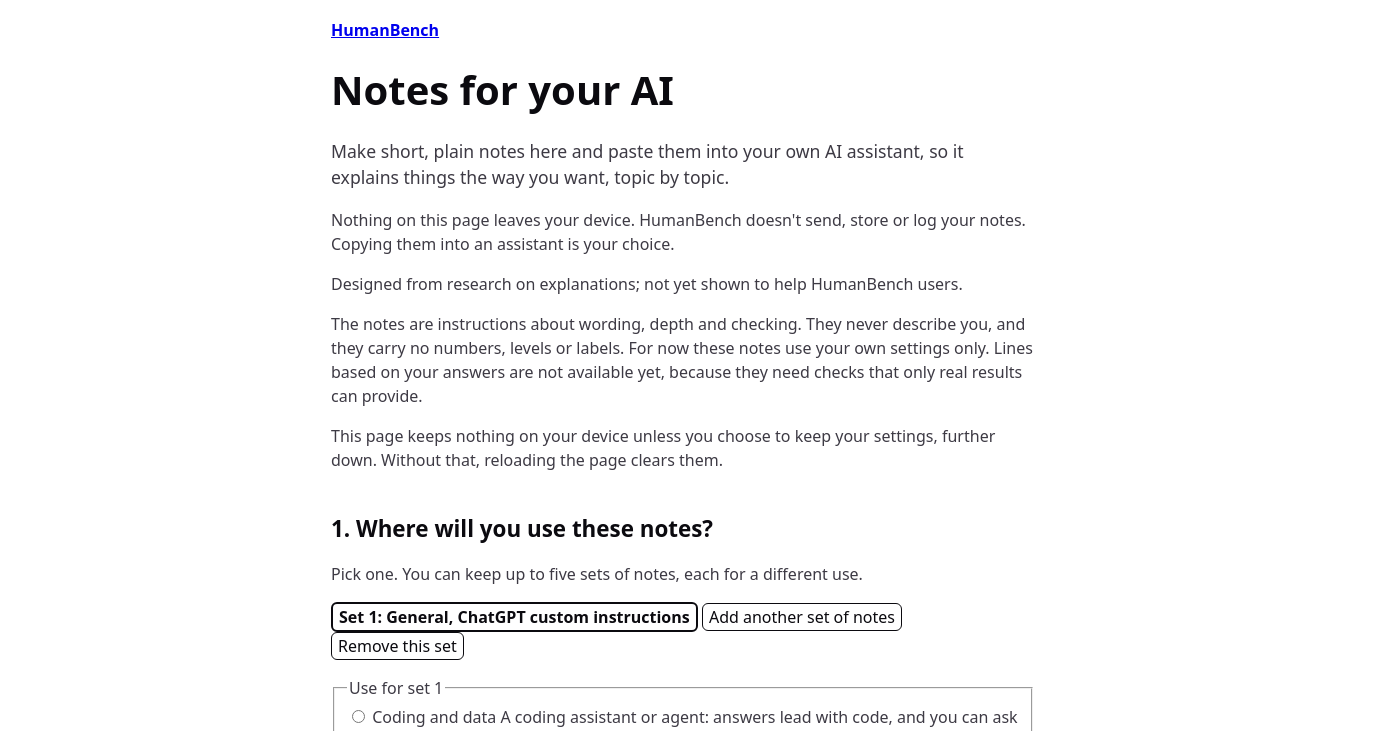
it: more › removes the settings on request and announces it
Click the 1st radio button: click(358, 717) x1=352 y1=710 x2=365 y2=723
(page scrolled)
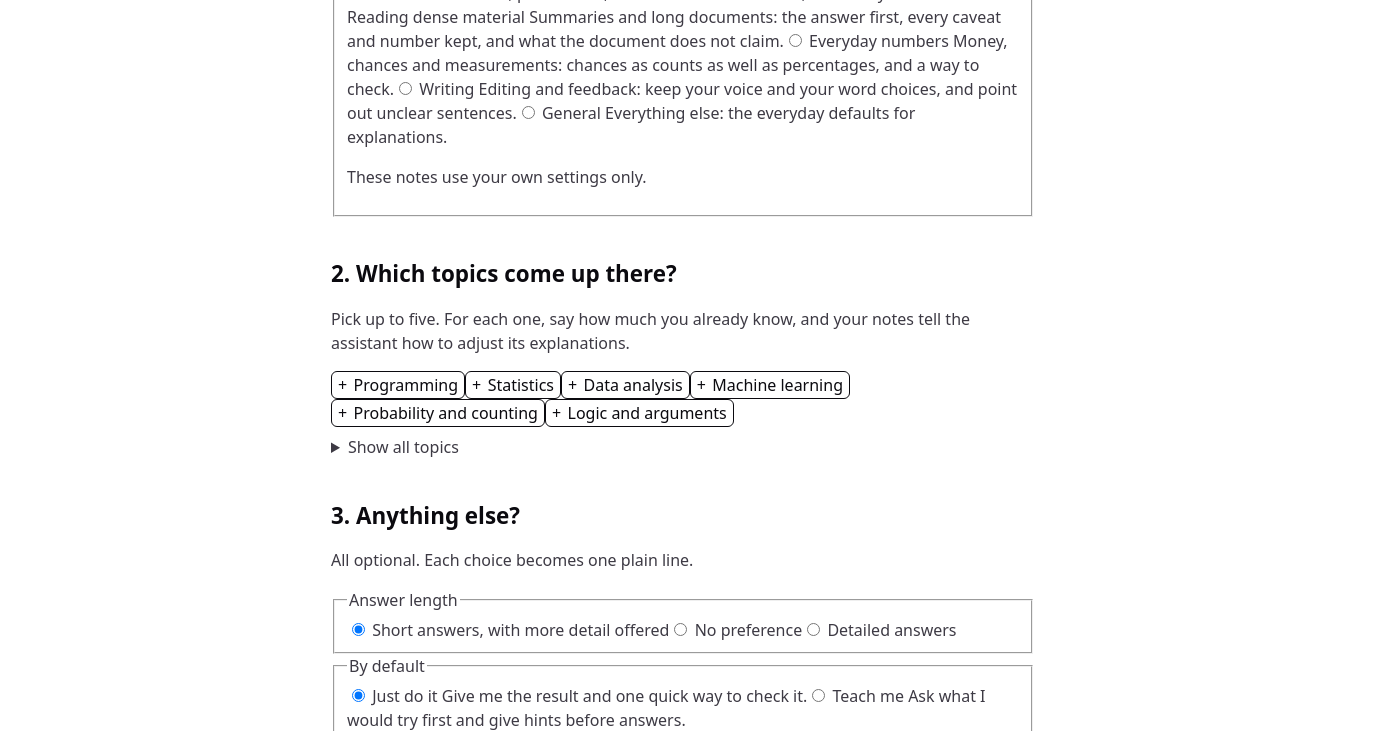
Click the button "+ Programming": click(398, 385) x1=331 y1=371 x2=465 y2=399
(page scrolled)
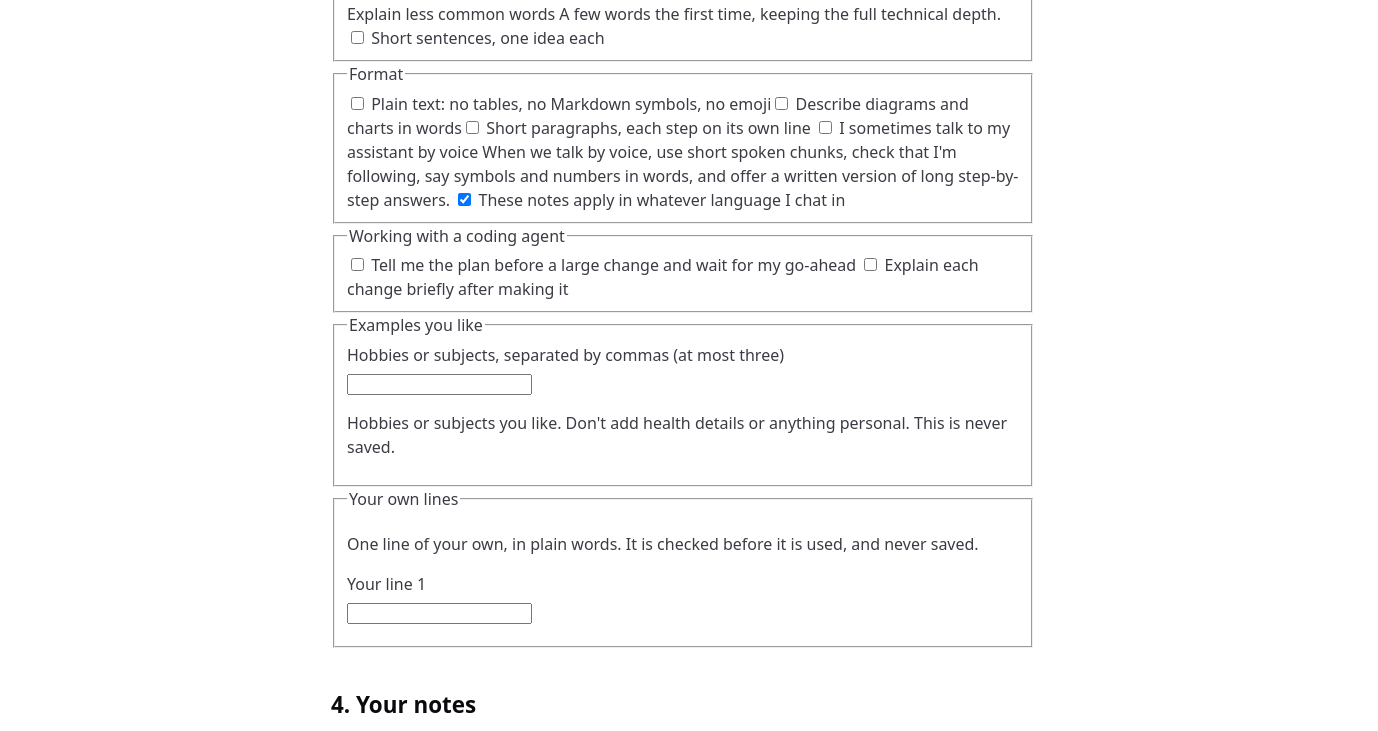
In the field labelled "Hobbies or subjects, separated by commas (at most three)": (440, 384) x1=347 y1=374 x2=532 y2=395, type "chess"
(page scrolled)
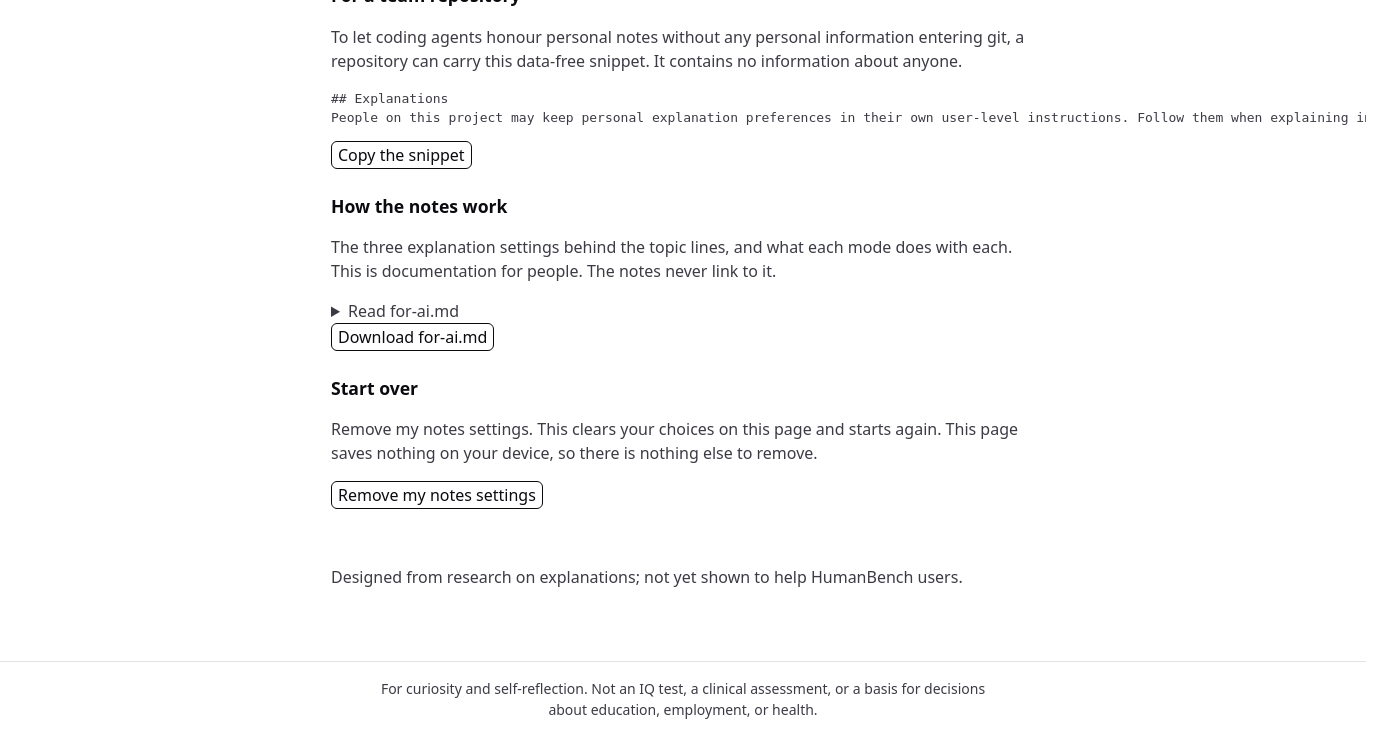
Click the button "Remove my notes settings": click(437, 495) x1=331 y1=481 x2=543 y2=509
(page scrolled)
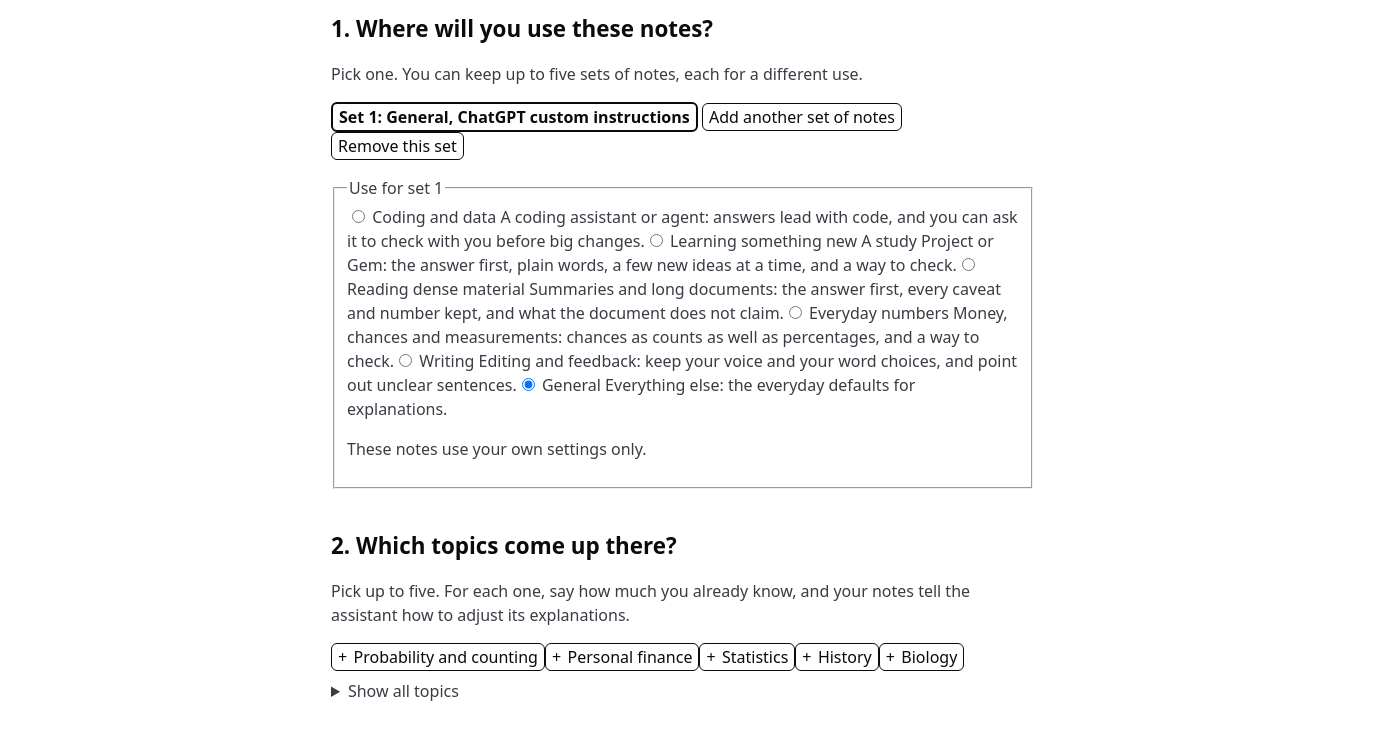
Expected: the button with id "notes-text" does not show "Programming"
Result: the 6th radio button is checked at x1=522 y1=378 x2=535 y2=391
